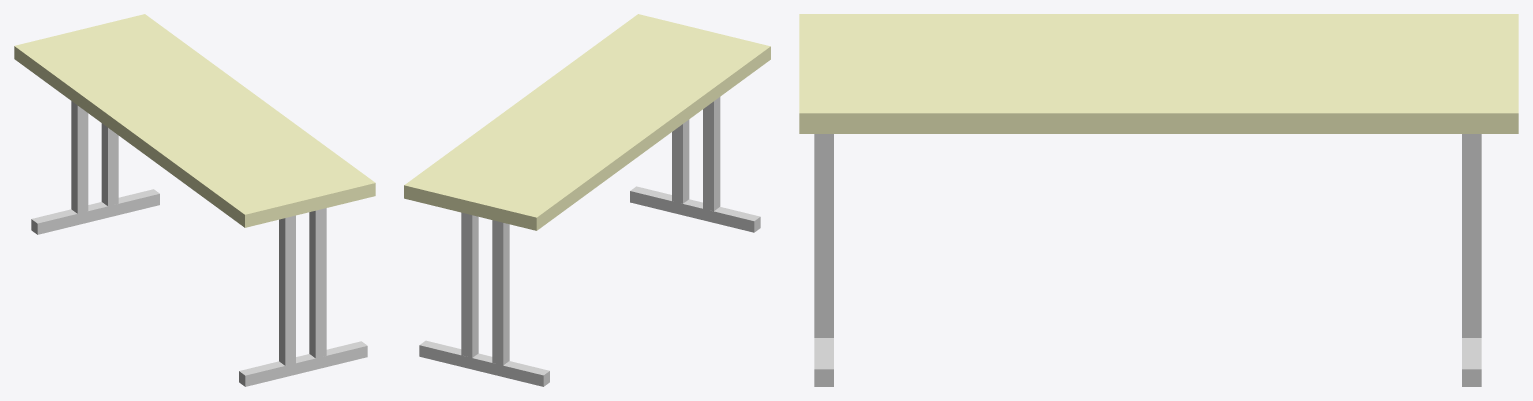
File: table_CIE.fbx
3 views of the same model, side by side, from view 1: azimuth 30°, elevation 25°; view 2: azimuth 150°, elevation 25°; view 3: azimuth 270°, elevation 25° (orthographic). The views are drawn at different scales.
Visible parts, largest first — view 1: Cube, Cube.001; view 2: Cube, Cube.001; view 3: Cube, Cube.001.
Boxes of the visible parts, x1=… form: Cube: x1=14, y1=14, x2=375, y2=227; Cube.001: x1=31, y1=101, x2=367, y2=386; Cube: x1=404, y1=14, x2=770, y2=230; Cube.001: x1=419, y1=97, x2=760, y2=386; Cube: x1=799, y1=14, x2=1518, y2=133; Cube.001: x1=814, y1=134, x2=1481, y2=386.
Bounding box in the file's own units: 232 × 300 × 709.
